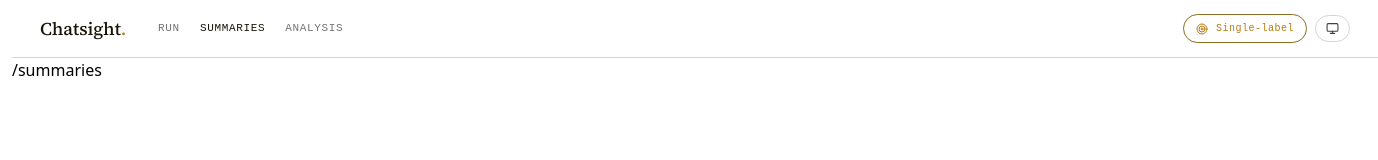
Test: clicking mode toggle from single navigates to /queue (multi landing)
The image size is (1378, 160).
Check: the text with test id "path" reads "/summaries", box [12,59,102,81]
Click the button titled "Mode: Single-label".
click(1245, 28)  # box [1183,14,1307,43]
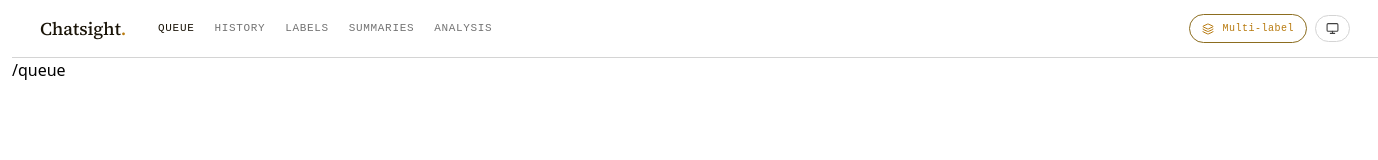
Check: the text with test id "path" reads "/queue", box [12,59,66,81]
